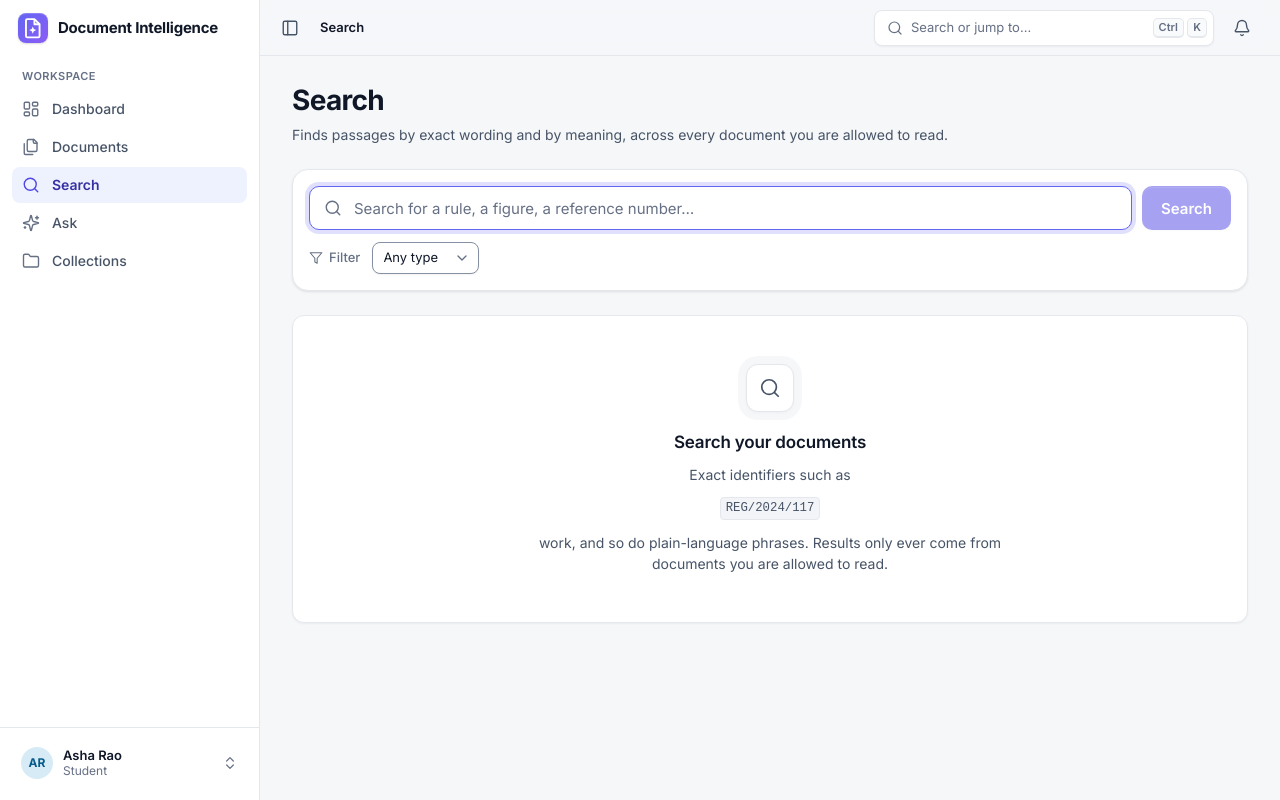
SearchPage › shows passages above the relevance floor and offers the rest on request
The image size is (1280, 800).
Type "late fine" into the search field named "Search documents" at (721, 208), box [309,186,1132,230]
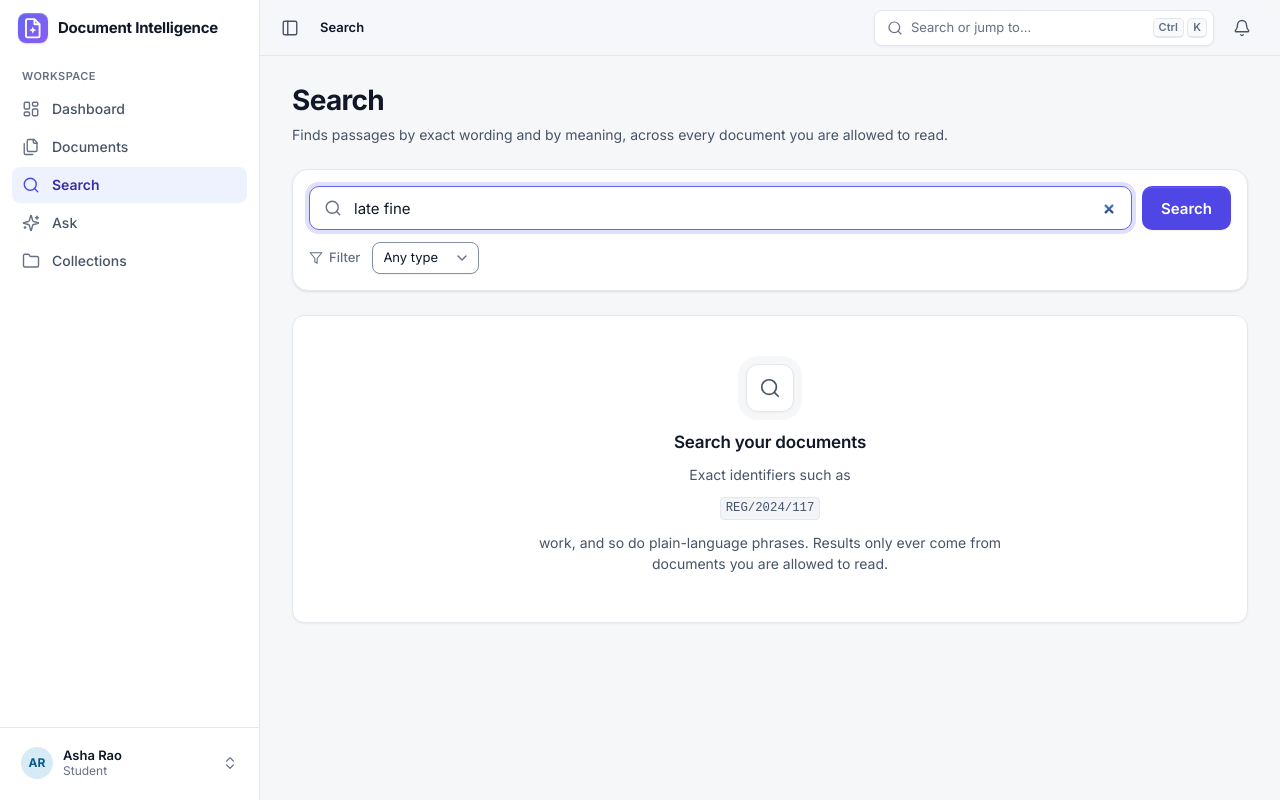
Click the button "Search" at (1187, 208), box [1142,186,1231,230]
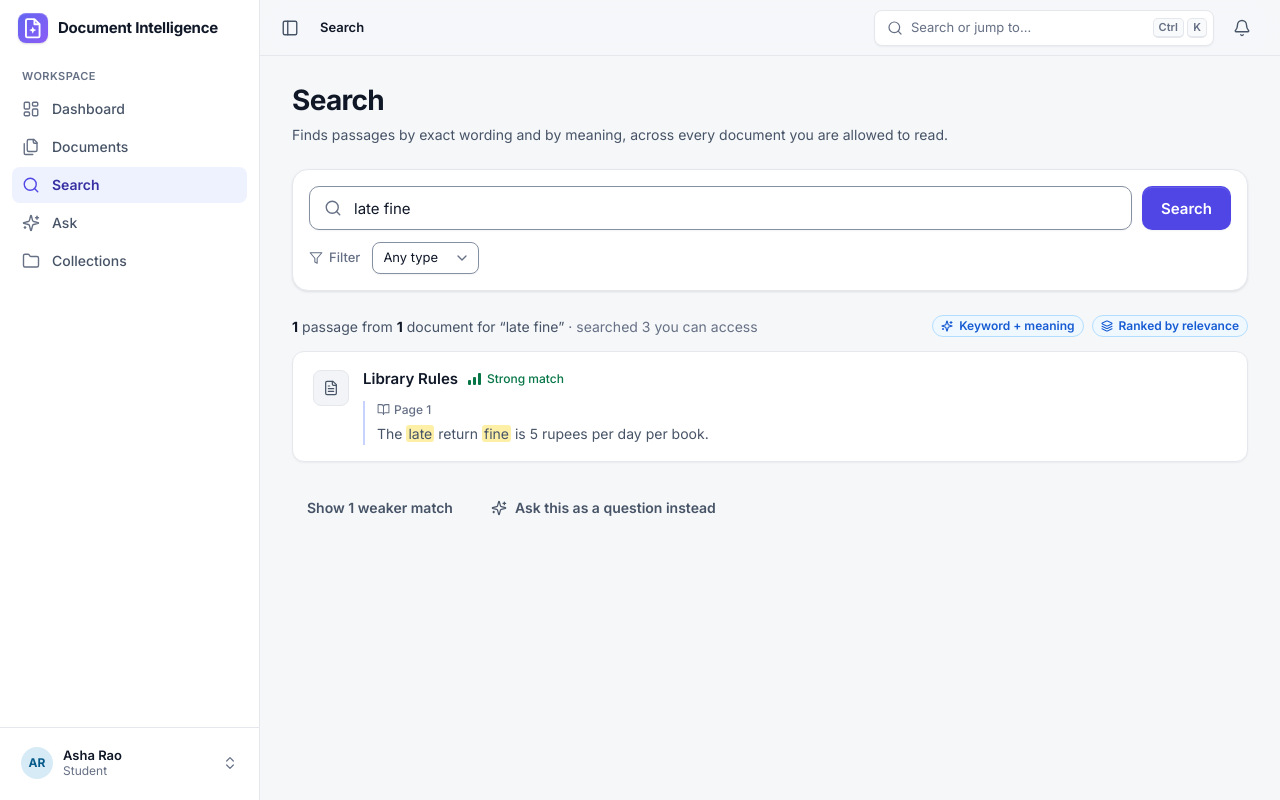
Expected: the text "Scanned fragment" is not shown
Expected: the link "Library Rules" is shown, [363,368,458,391]
Expected: the text "Ranked by relevance" is shown, [1092,315,1248,337]
Click the button "Show 1 weaker match" at (380, 508), box [292,490,468,526]
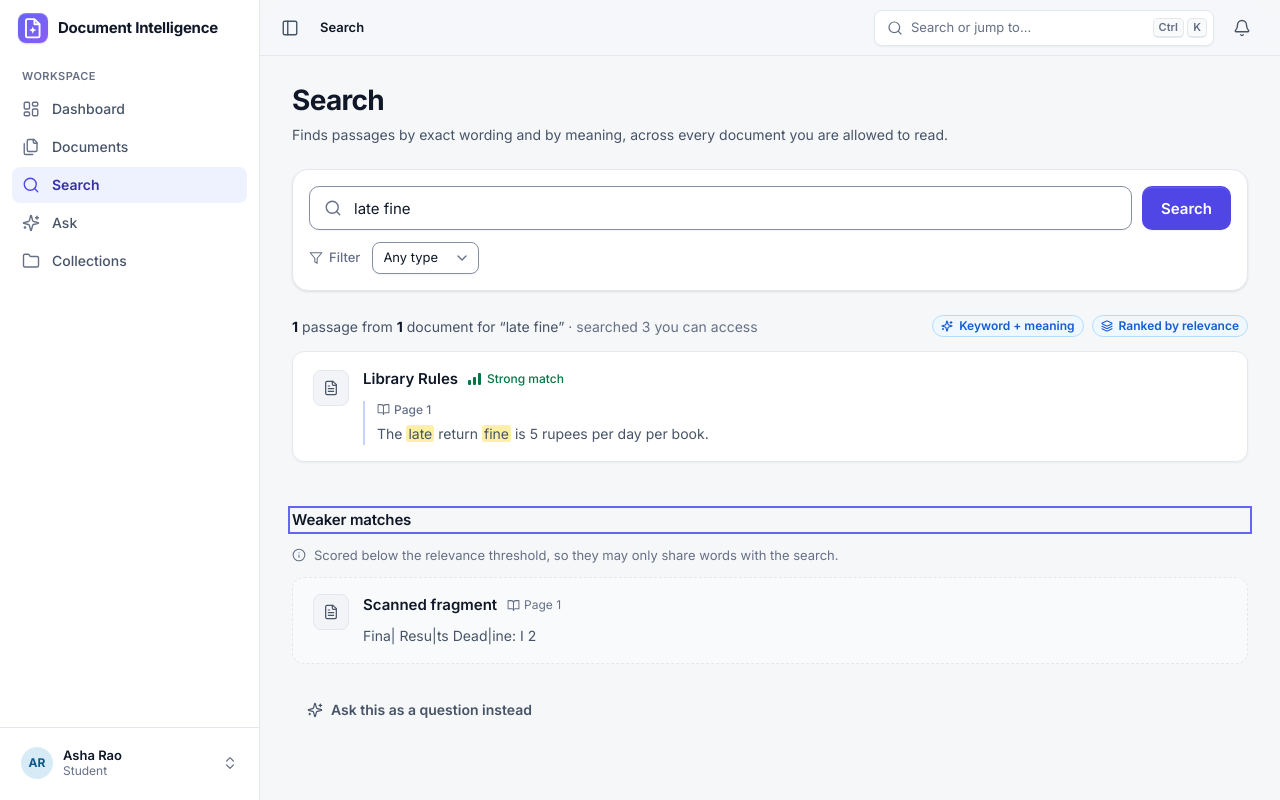
Expected: the list named "Search results" does not show "Scanned fragment", [292,351,1248,462]
Expected: the list named "Search results" shows "Library Rules", [363,368,458,391]
Expected: the list named "Weaker matches" shows "Scanned fragment", [363,594,497,617]
